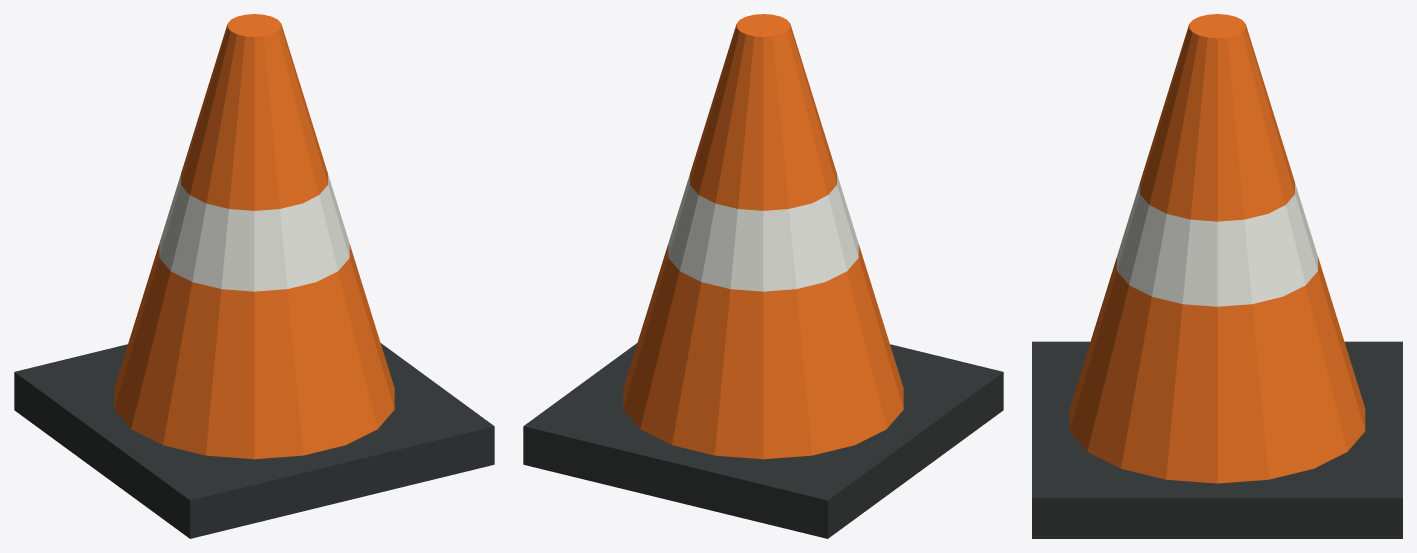
File: HomebaseTrafficCone_LOD00.gltf
3 renders of one model, left to right at view 1: azimuth 30°, elevation 25°; view 2: azimuth 150°, elevation 25°; view 3: azimuth 270°, elevation 25°, orthographic. The views are drawn at different scales.
Parts seen in each view (by area): view 1: HomebaseTrafficCone_node; view 2: HomebaseTrafficCone_node; view 3: HomebaseTrafficCone_node.
Boxes of the visible parts, x1,y1,x2,y2 form: HomebaseTrafficCone_node: (14,14,494,538); HomebaseTrafficCone_node: (523,14,1003,538); HomebaseTrafficCone_node: (1032,14,1402,538).
Size of the model in its own units: 0.58 by 0.75 by 0.58.
